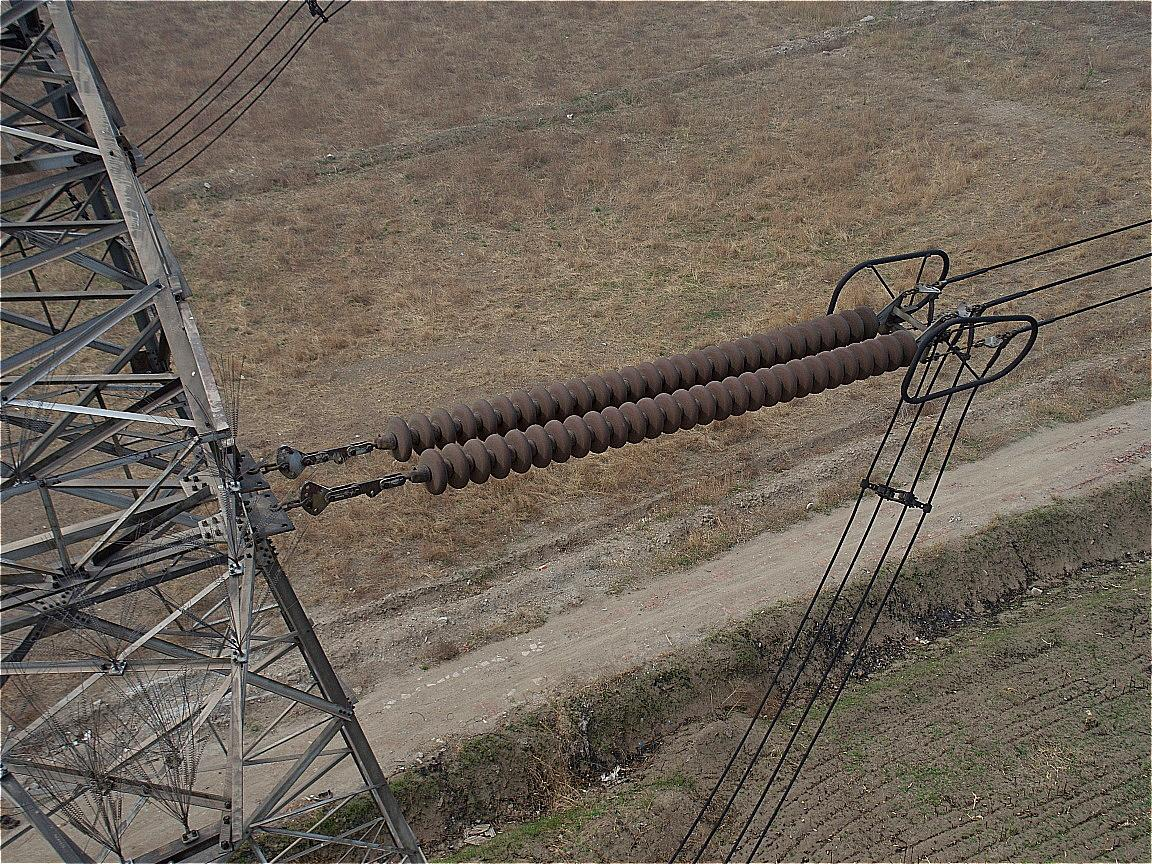insultor1: (388, 306, 919, 493)
